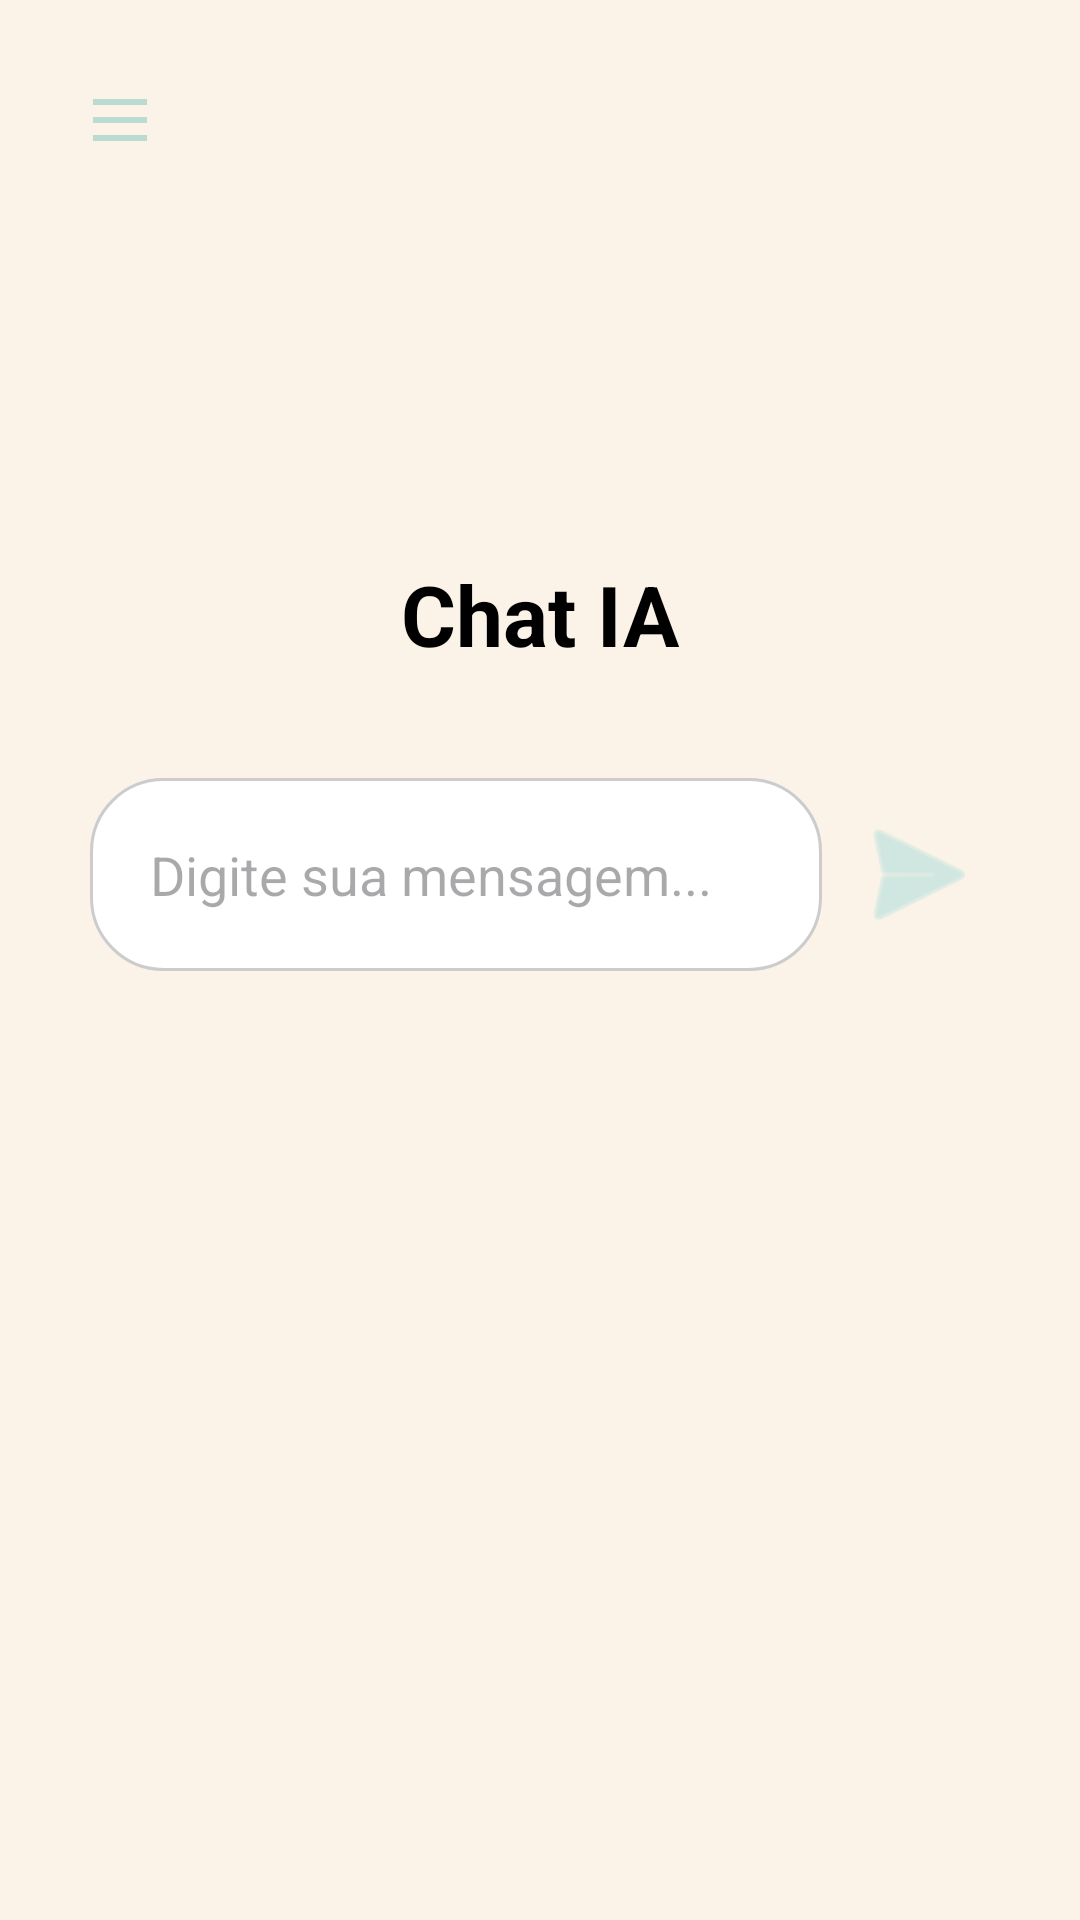

Where to tap for icons on this 1080px x 1920px app screen, as [x,y]:
Abrir Menu: [120,120]
Enviar: [919,875]
